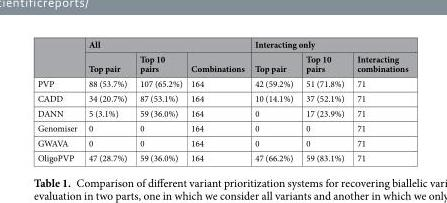table: (36, 37, 407, 163)
table column: (186, 37, 249, 163), (350, 37, 407, 163), (132, 37, 186, 163), (298, 37, 350, 163), (82, 37, 132, 163), (249, 37, 298, 163), (36, 37, 82, 163)
table column header: (36, 37, 407, 75)
table row: (36, 51, 407, 75), (36, 75, 407, 90), (36, 90, 407, 105), (36, 105, 407, 120), (36, 120, 407, 135), (36, 135, 407, 150), (36, 37, 407, 51), (36, 150, 407, 163)
table spanning cell: (82, 37, 249, 51), (249, 37, 407, 51)
